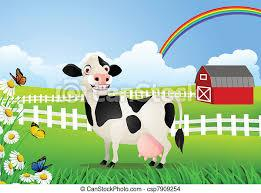cow: (63, 54, 184, 169)
